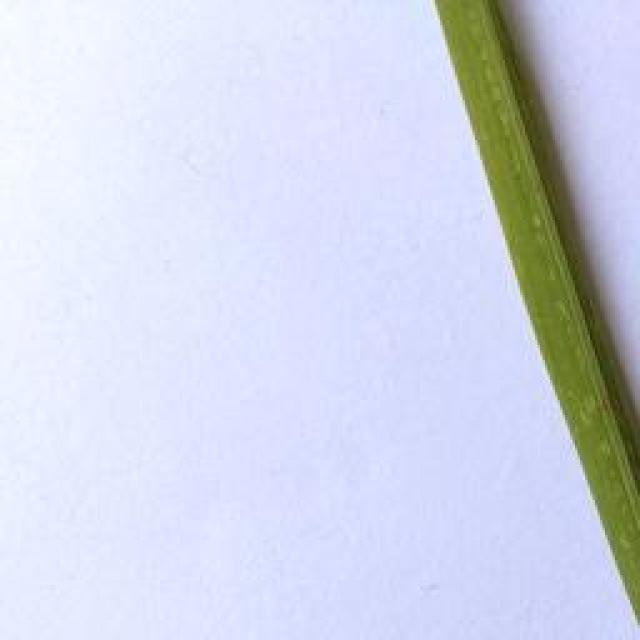Healthy: (435, 0, 640, 630)
